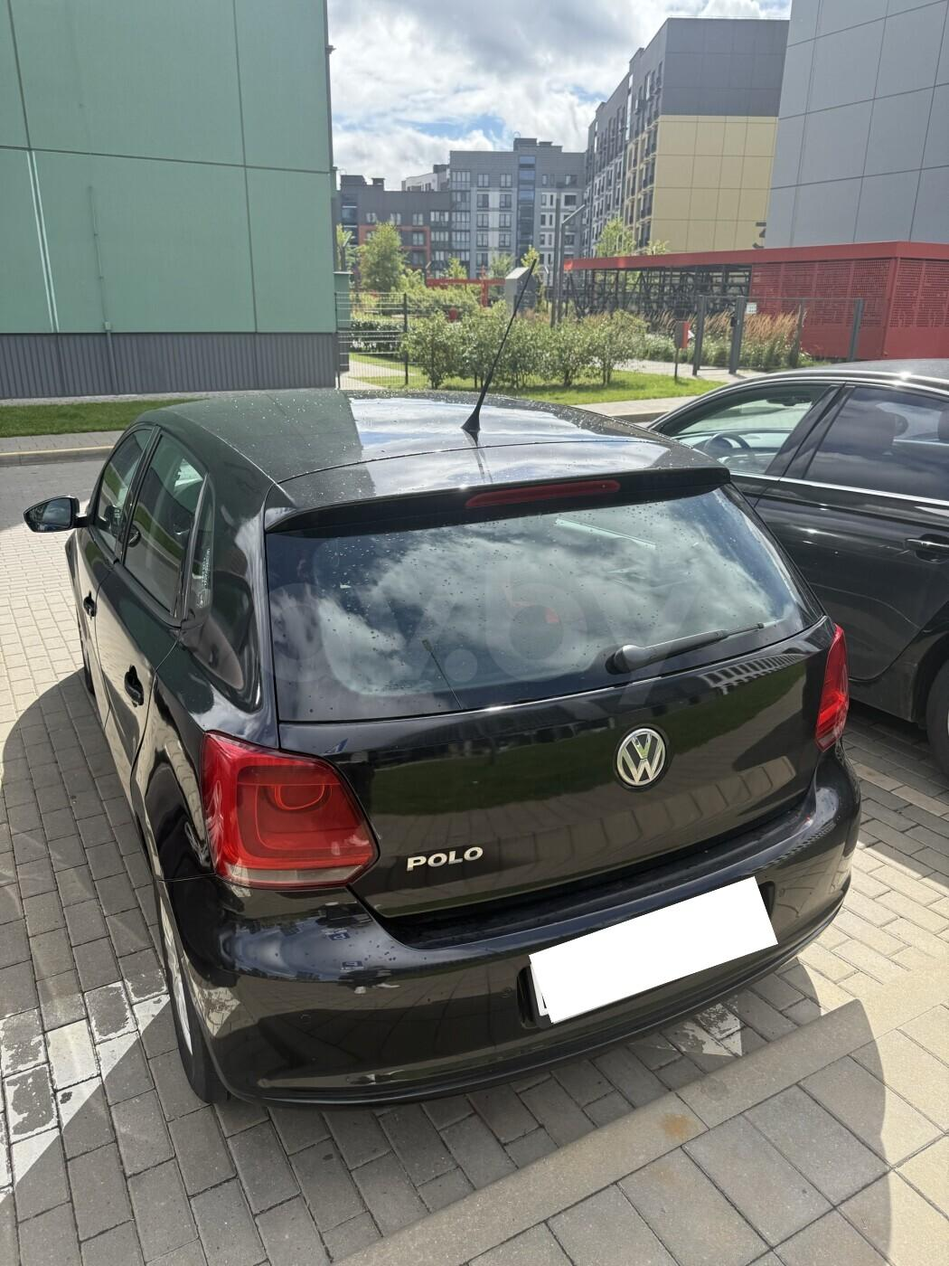Polo_2009-2015: (20, 372, 886, 1125)
